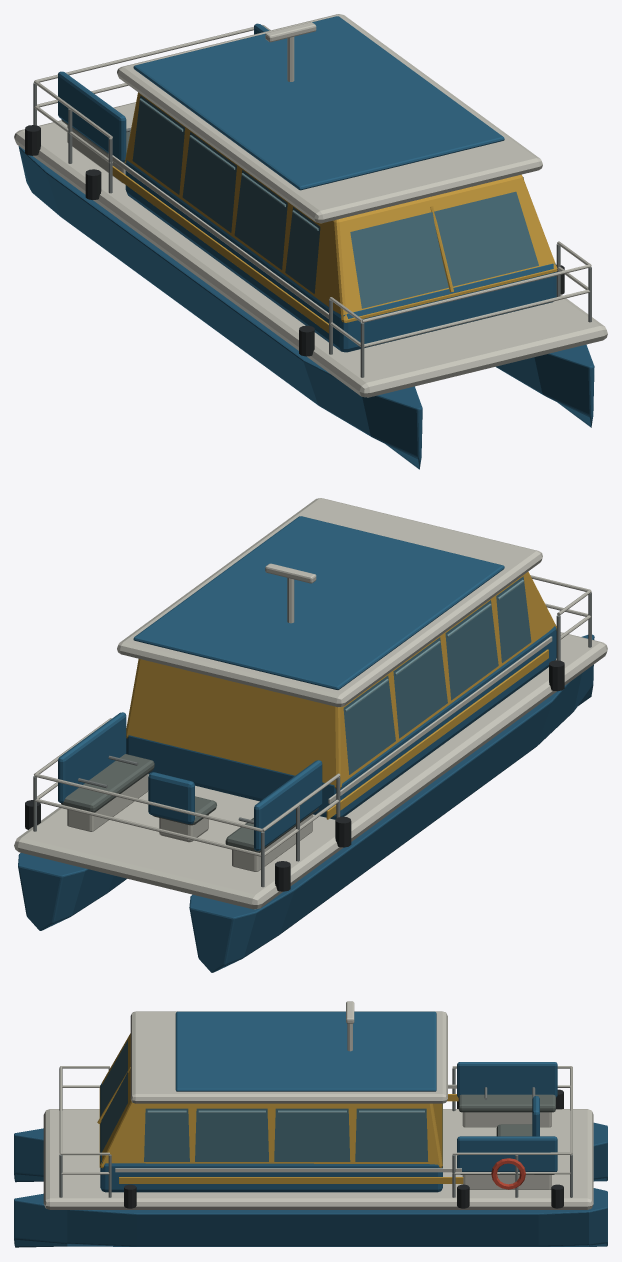
The model's file is vehicles.glb.
The picture shows the model from 3 angles, top to bottom: view 1: azimuth 30°, elevation 25°; view 2: azimuth 150°, elevation 25°; view 3: azimuth 270°, elevation 25°; orthographic projection. The views are drawn at different scales.
Parts seen in each view (by area): view 1: FerryBody; view 2: FerryBody; view 3: FerryBody.
Boxes of the visible parts, x1,y1,x2,y2 form: FerryBody: (14,14,607,469); FerryBody: (14,498,607,972); FerryBody: (14,1001,607,1247).
Bounding box in the file's own units: 3.77 × 3.6 × 9.45.
